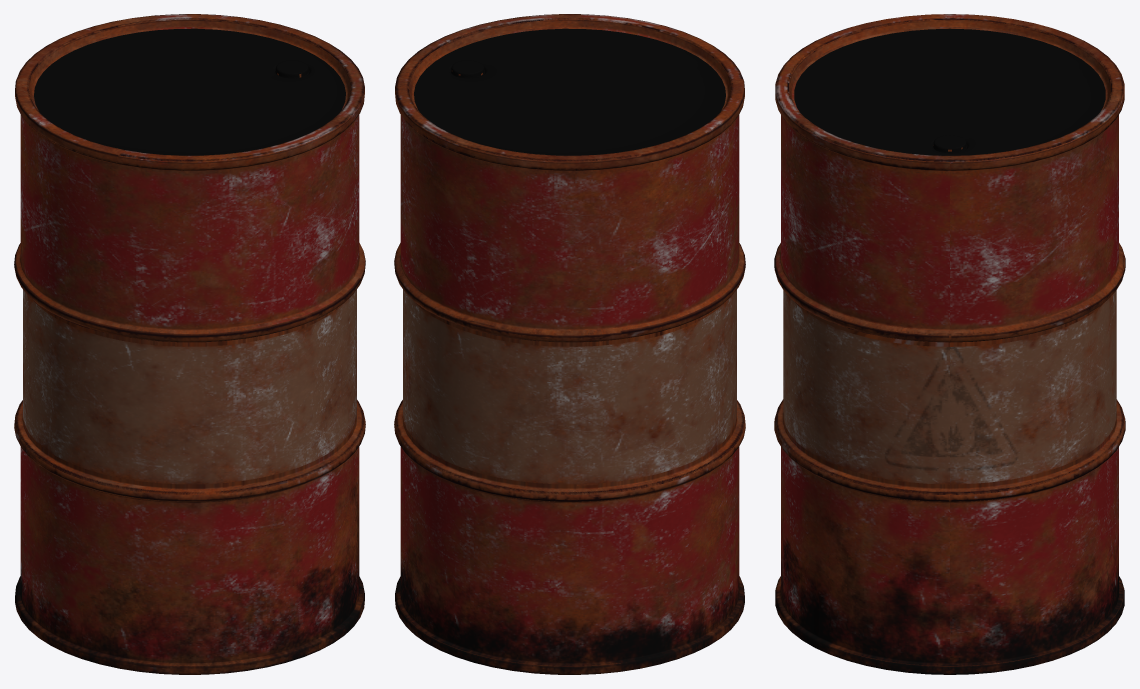
File: barril.obj
3 views of the same model, side by side, from view 1: azimuth 30°, elevation 25°; view 2: azimuth 150°, elevation 25°; view 3: azimuth 270°, elevation 25° (orthographic).
Parts seen in each view (by area): view 1: Oil-Drum; view 2: Oil-Drum; view 3: Oil-Drum.
Part boxes in pixels (<box>): Oil-Drum: <box>14,14,365,674</box>; Oil-Drum: <box>394,14,745,674</box>; Oil-Drum: <box>774,14,1125,674</box>.
Bounding box in the file's own units: 0.0115 × 0.0186 × 0.0115.
Materials: 3 (2 with a texture image).
